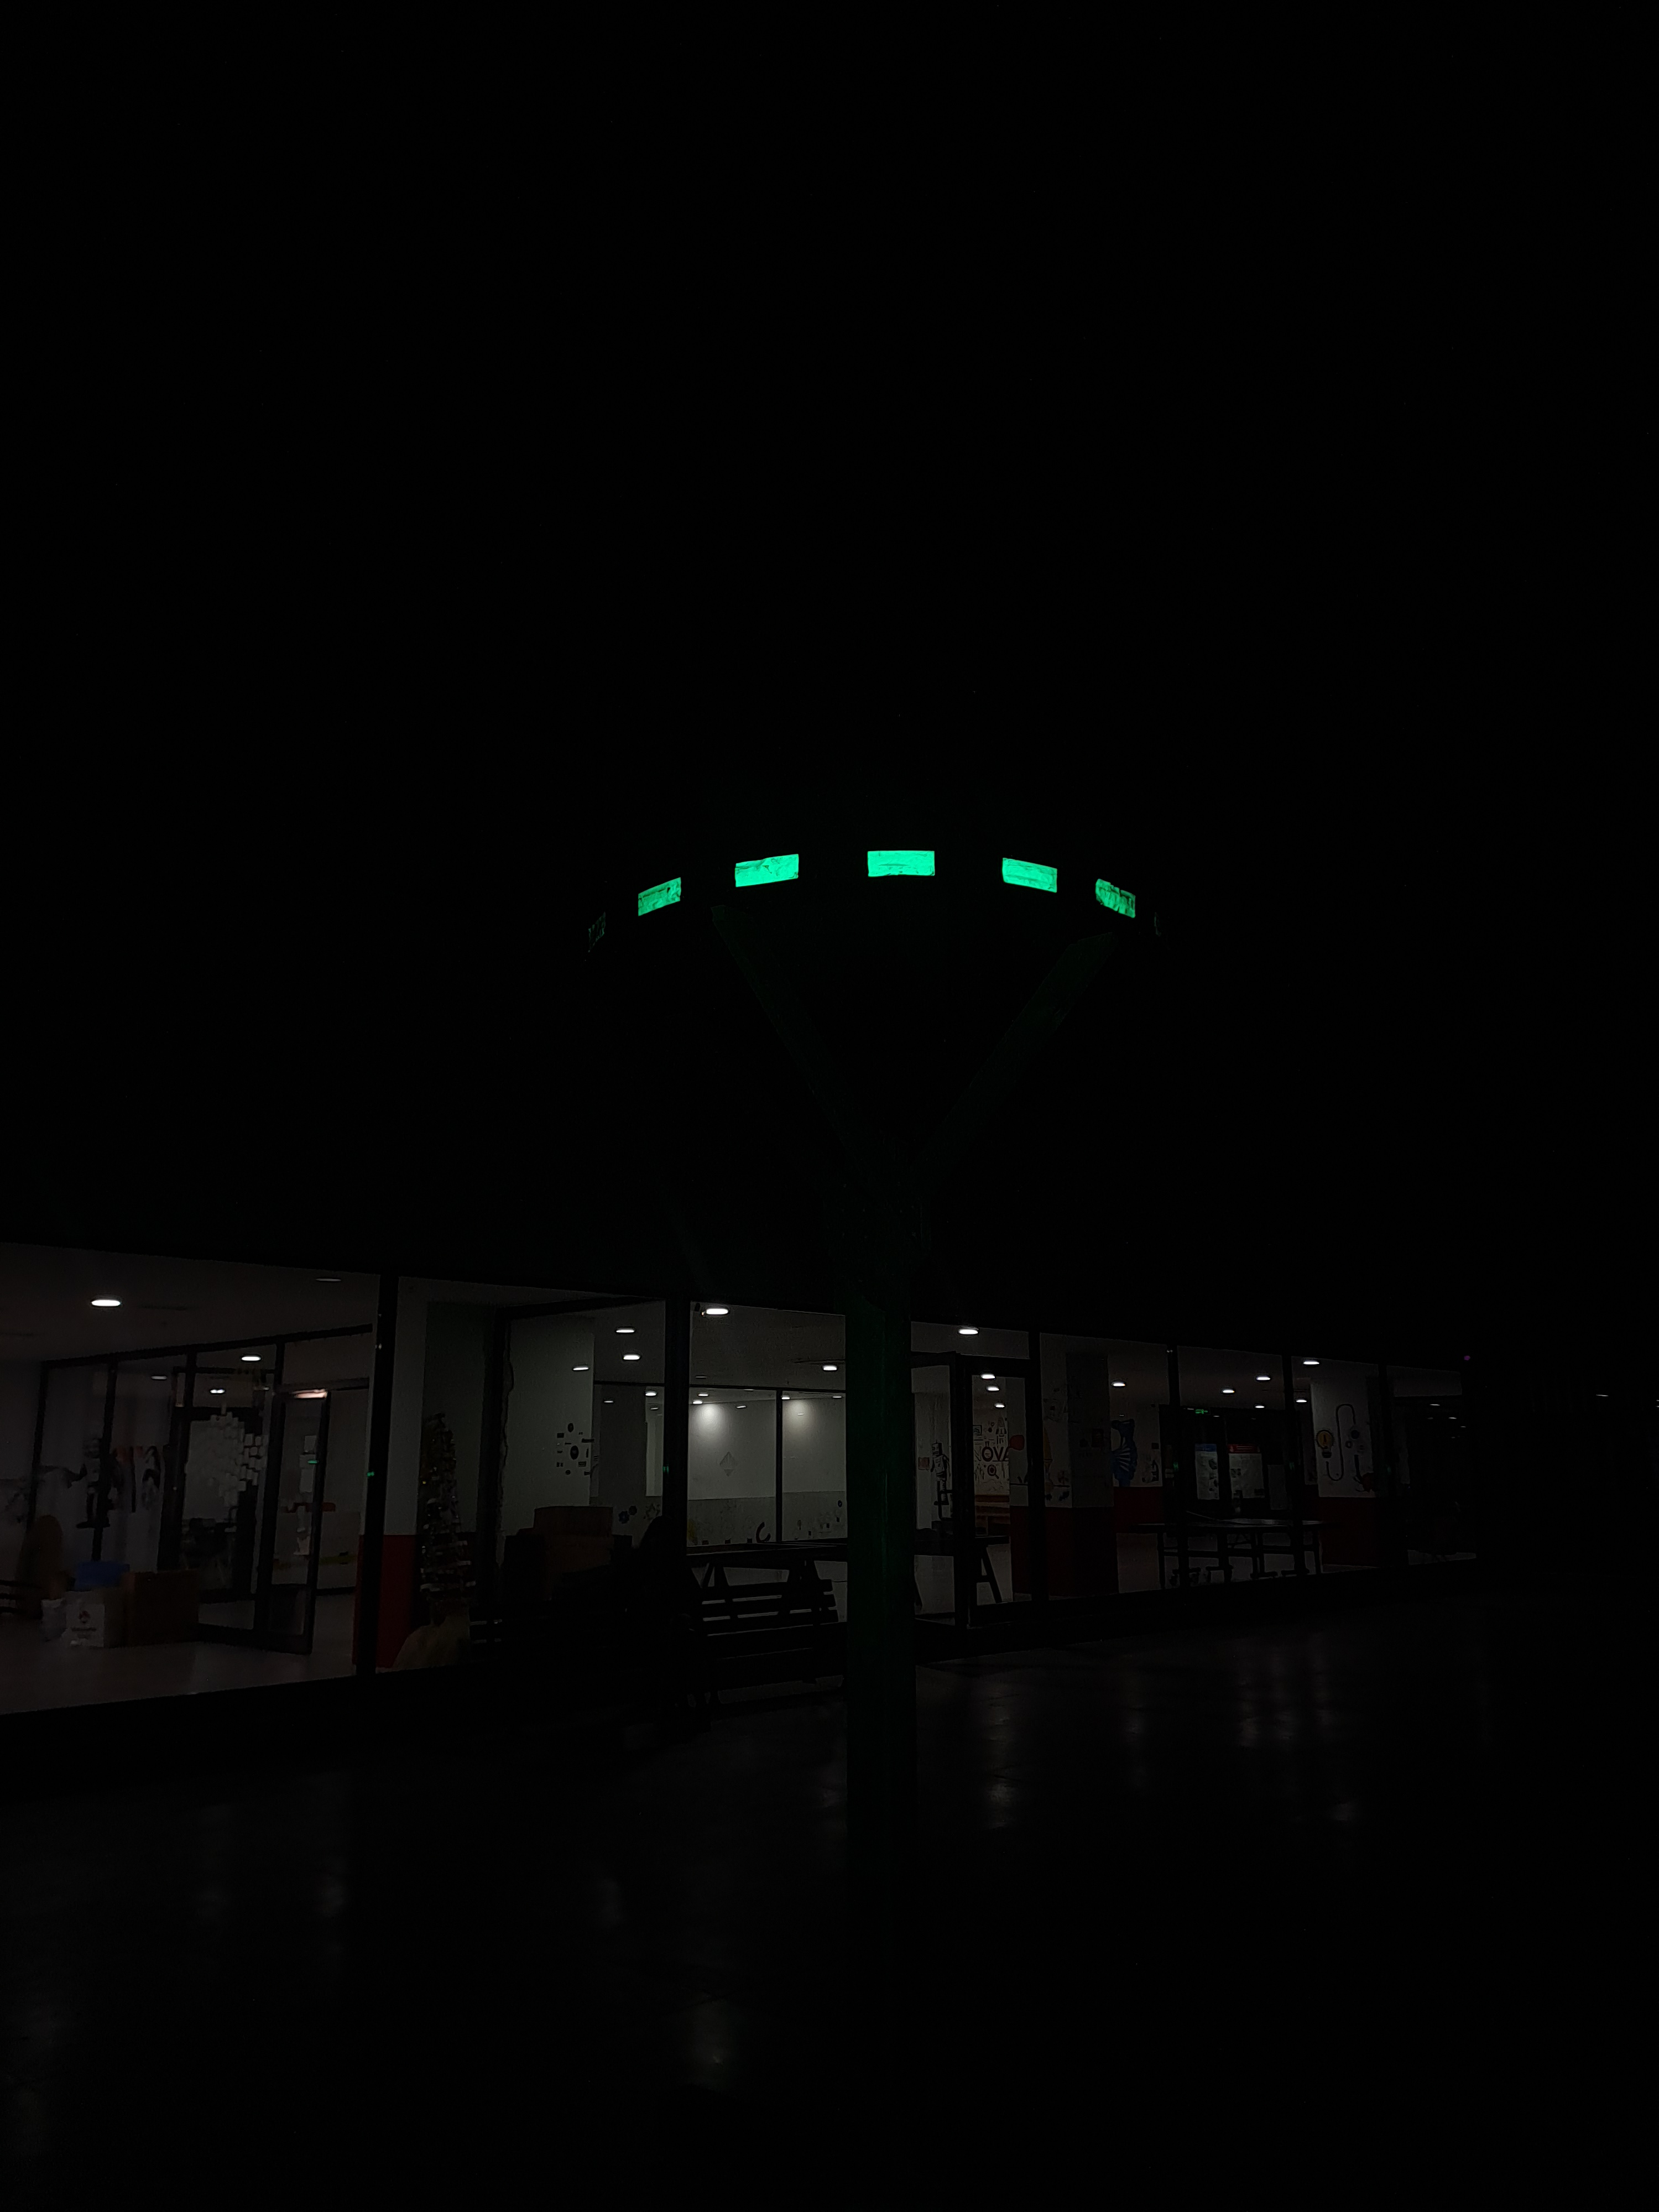hoop: (626, 848, 1141, 928)
